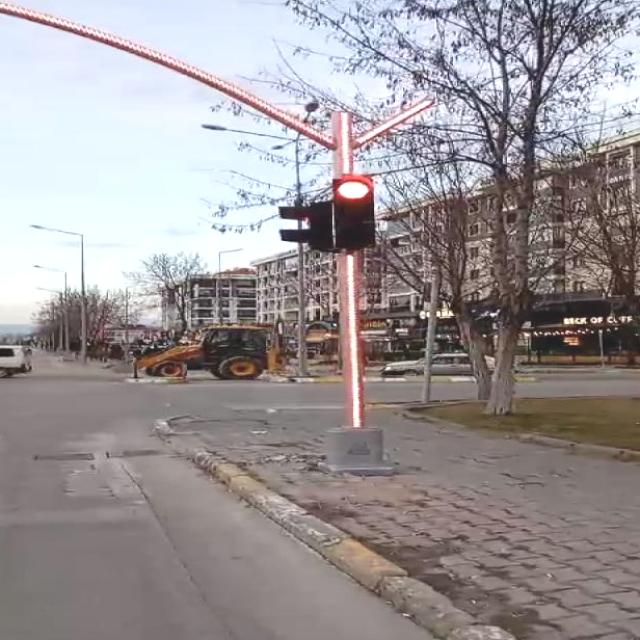kirmizi: (330, 176, 376, 249)
